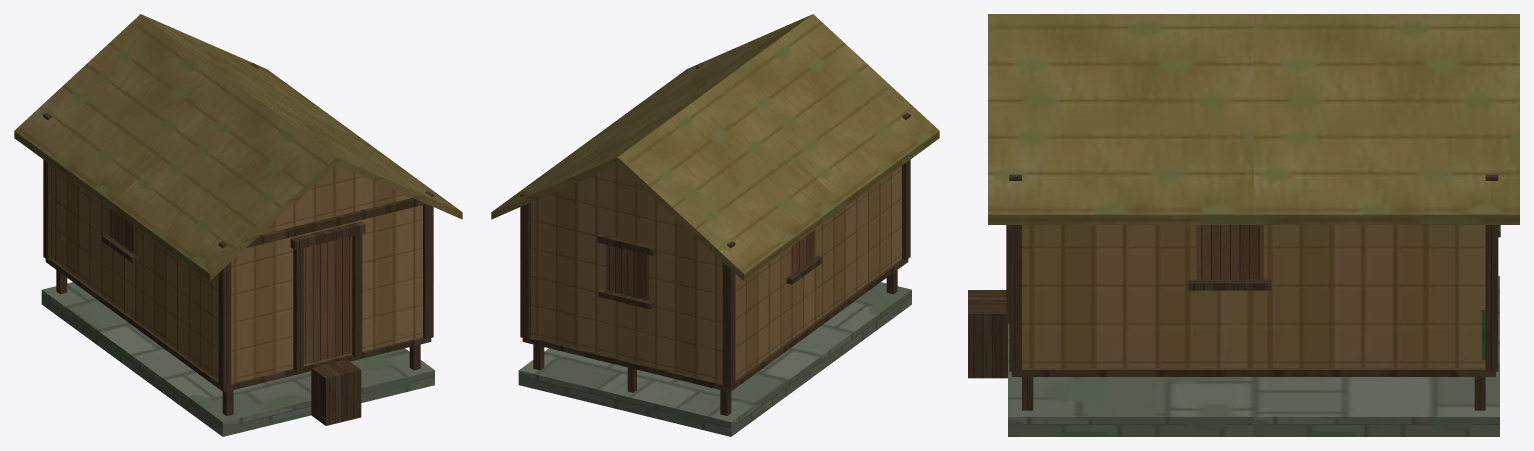
The model's file is ae_jungle_wood_medium_block_lod0.glb.
The picture shows the model from 3 angles, left to right: view 1: azimuth 30°, elevation 25°; view 2: azimuth 150°, elevation 25°; view 3: azimuth 270°, elevation 25°; orthographic projection. The views are drawn at different scales.
Parts seen in each view (by area): view 1: ae_jungle_wood_medium_block_lod0; view 2: ae_jungle_wood_medium_block_lod0; view 3: ae_jungle_wood_medium_block_lod0.
Boxes of the visible parts, x1=… form: ae_jungle_wood_medium_block_lod0: x1=14, y1=14, x2=462, y2=436; ae_jungle_wood_medium_block_lod0: x1=491, y1=14, x2=939, y2=436; ae_jungle_wood_medium_block_lod0: x1=968, y1=14, x2=1519, y2=436.
Bounding box in the file's own units: 5 × 4.9 × 6.95.
Materials: 1 (1 with a texture image).
